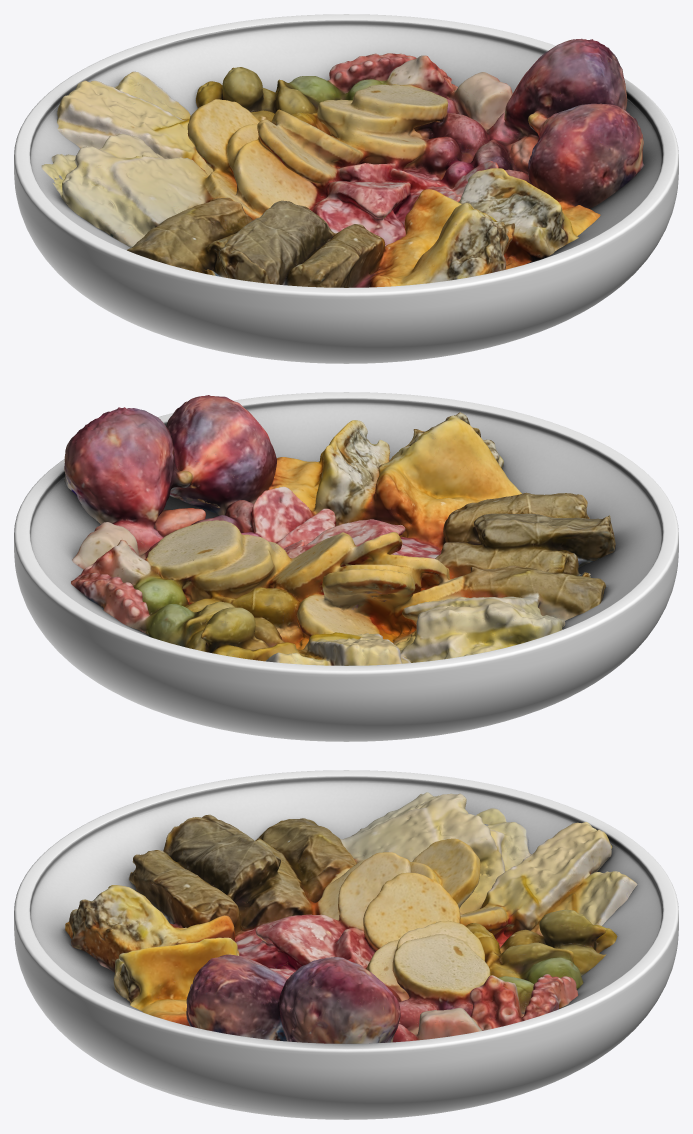
File: asset.glb
3 renders of one model, top to bottom at view 1: azimuth 30°, elevation 25°; view 2: azimuth 150°, elevation 25°; view 3: azimuth 270°, elevation 25°, orthographic.
Visible parts, largest first — view 1: MEZE_PLATE_300K.001_0, BOWL_1; view 2: MEZE_PLATE_300K.001_0, BOWL_1; view 3: MEZE_PLATE_300K.001_0, BOWL_1.
Part boxes in pixels (left/top/right/bottom): MEZE_PLATE_300K.001_0: left=41, top=38, right=643, bottom=287; BOWL_1: left=14, top=14, right=678, bottom=363; MEZE_PLATE_300K.001_0: left=64, top=395, right=615, bottom=665; BOWL_1: left=14, top=392, right=678, bottom=741; MEZE_PLATE_300K.001_0: left=65, top=792, right=637, bottom=1043; BOWL_1: left=14, top=770, right=678, bottom=1119.
Bounding box in the file's own units: 0.3073 × 0.0806 × 0.3073.
Materials: 2 (2 with a texture image).
